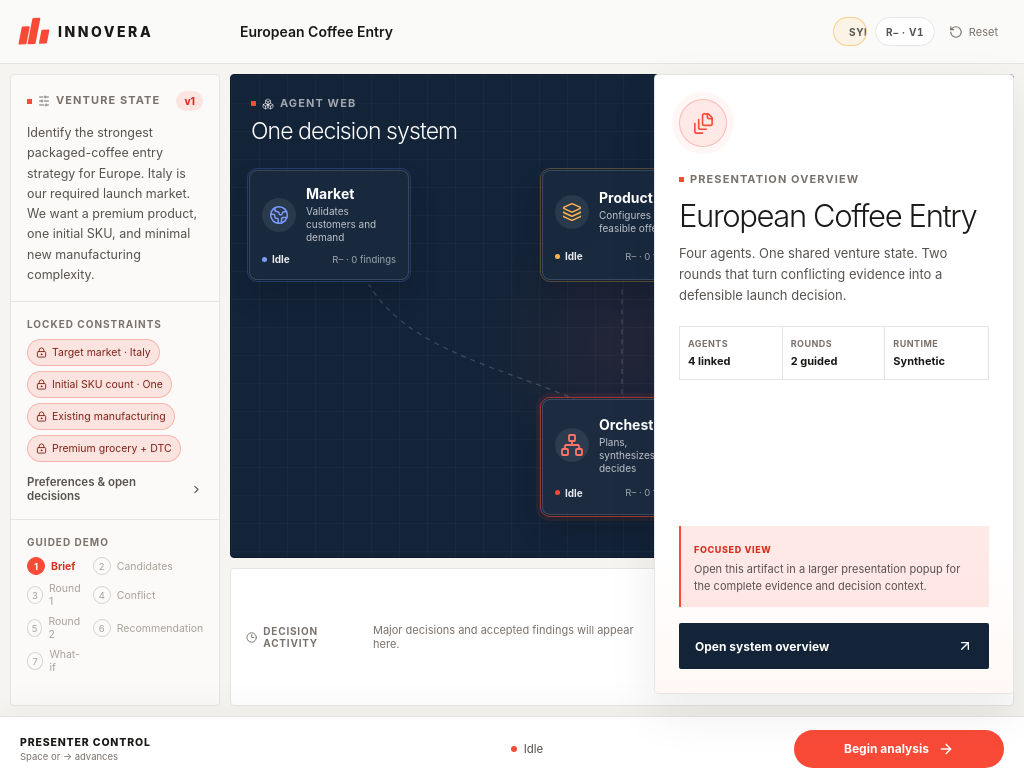
Test: guided presentation › moves from introduction to the structured brief
Expected: the button "Open system overview" is shown, [679,623,989,669]
Click the button "Begin analysis" at (899,748), box [794,730,1004,767]
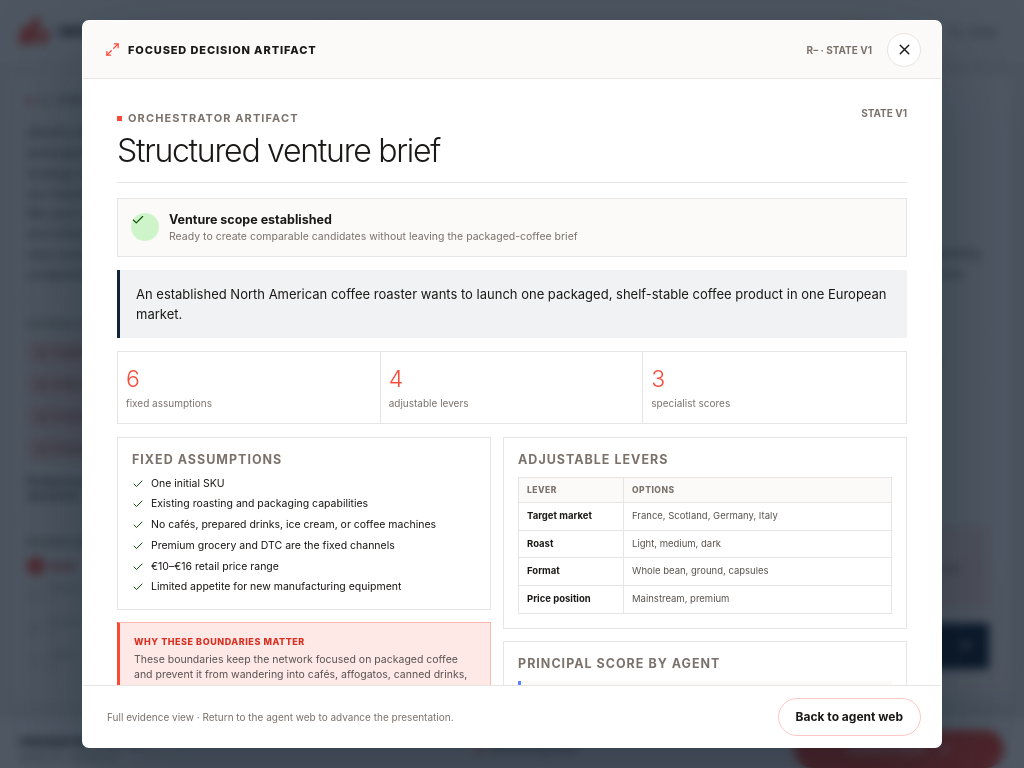
Now the dialog "Focused decision artifact" is shown
Now the heading "Structured venture brief" is shown, box [117,131,440,170]
Now the text "No cafés, prepared drinks, ice cream, or coffee machines" is shown, box [132,518,476,533]
Click the button named "close artifact popup" at (904,50), box [887,32,921,66]
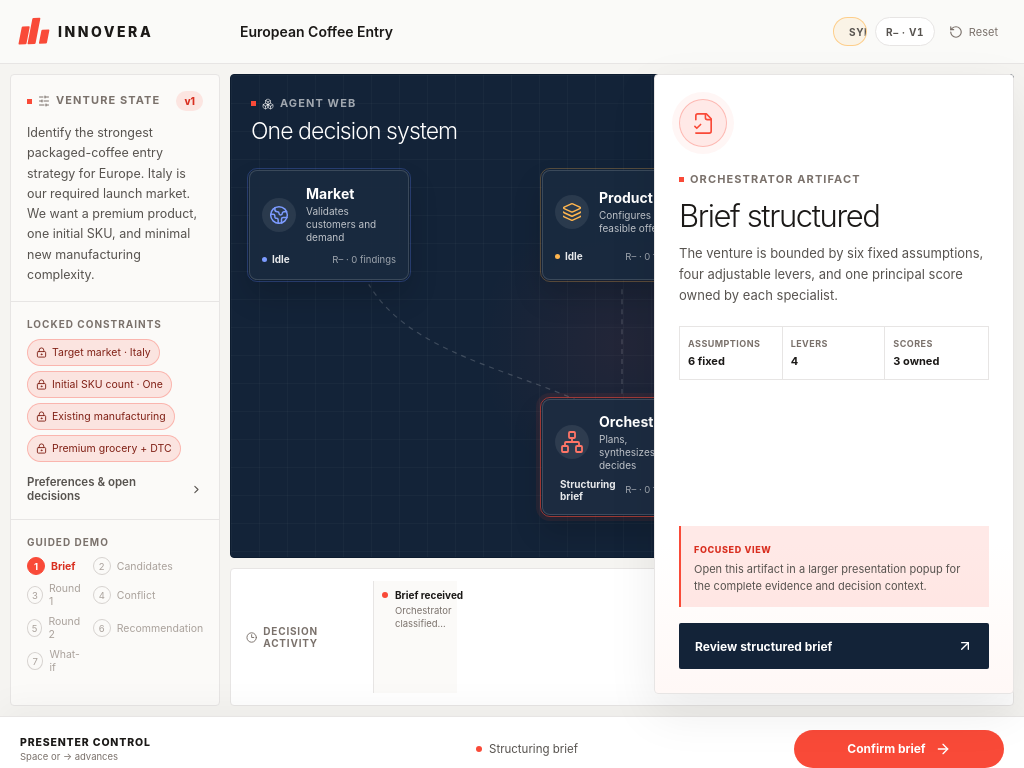
Now the button "Review structured brief" is shown, box [679,623,989,669]
Now the text "Focused decision artifact" is gone
